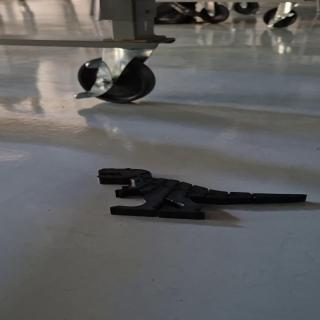dino: (96, 167, 308, 220)
